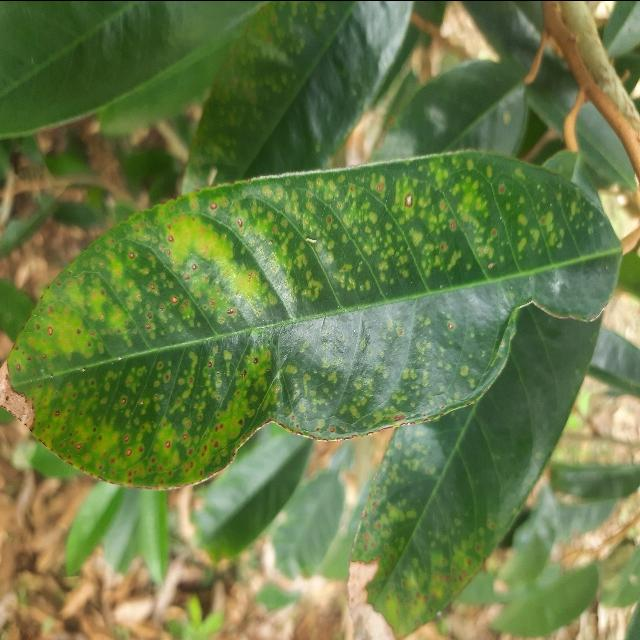Leaf Spot: (0, 141, 631, 505)
